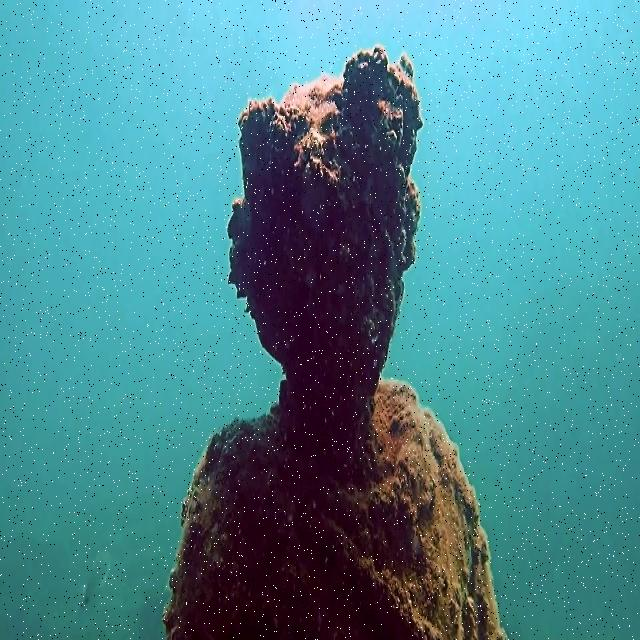wrecks-ruins: (163, 47, 507, 639)
